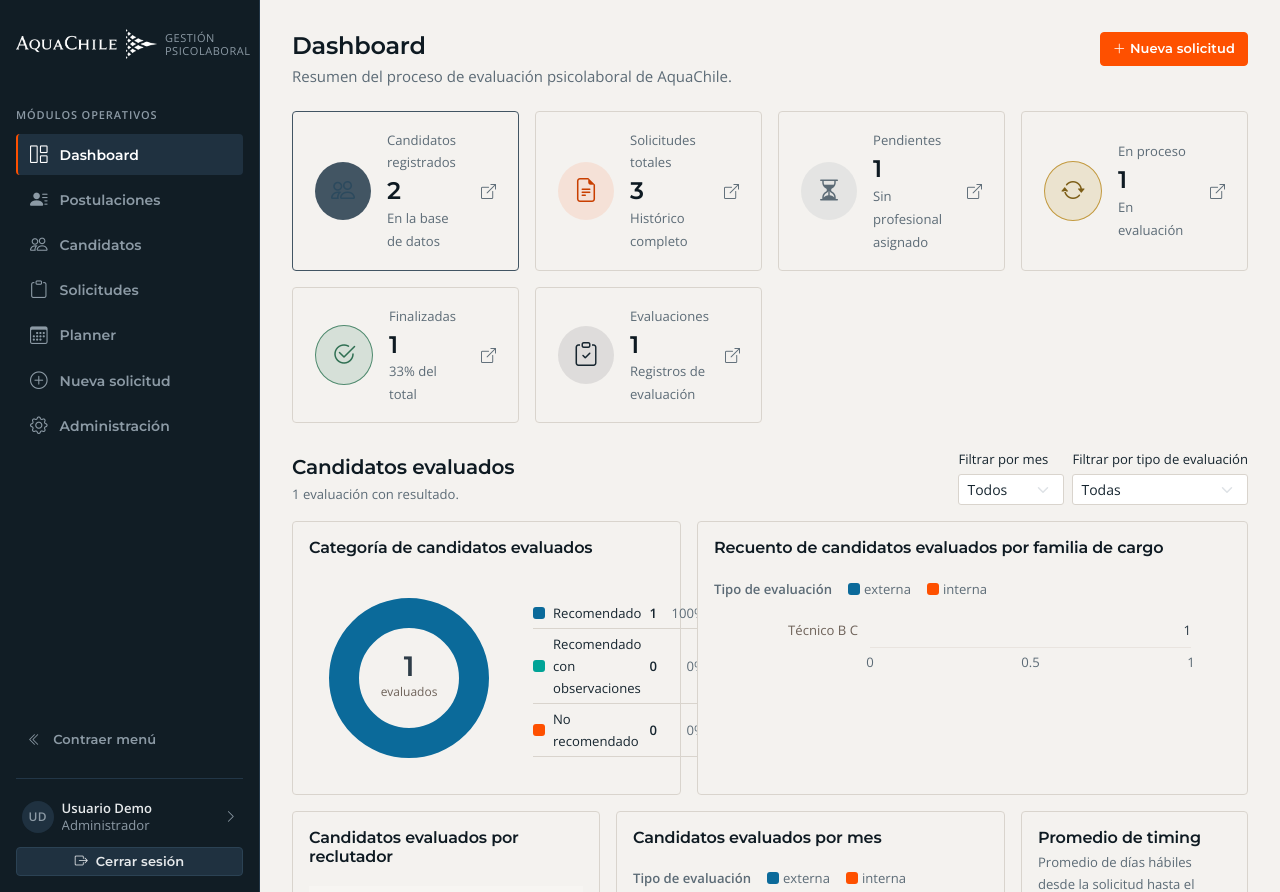
Test case: App (enrutado) › muestra el listado de candidatos
Step 1. Click the link "Candidatos" → (86, 245), box [30,234,141,256]
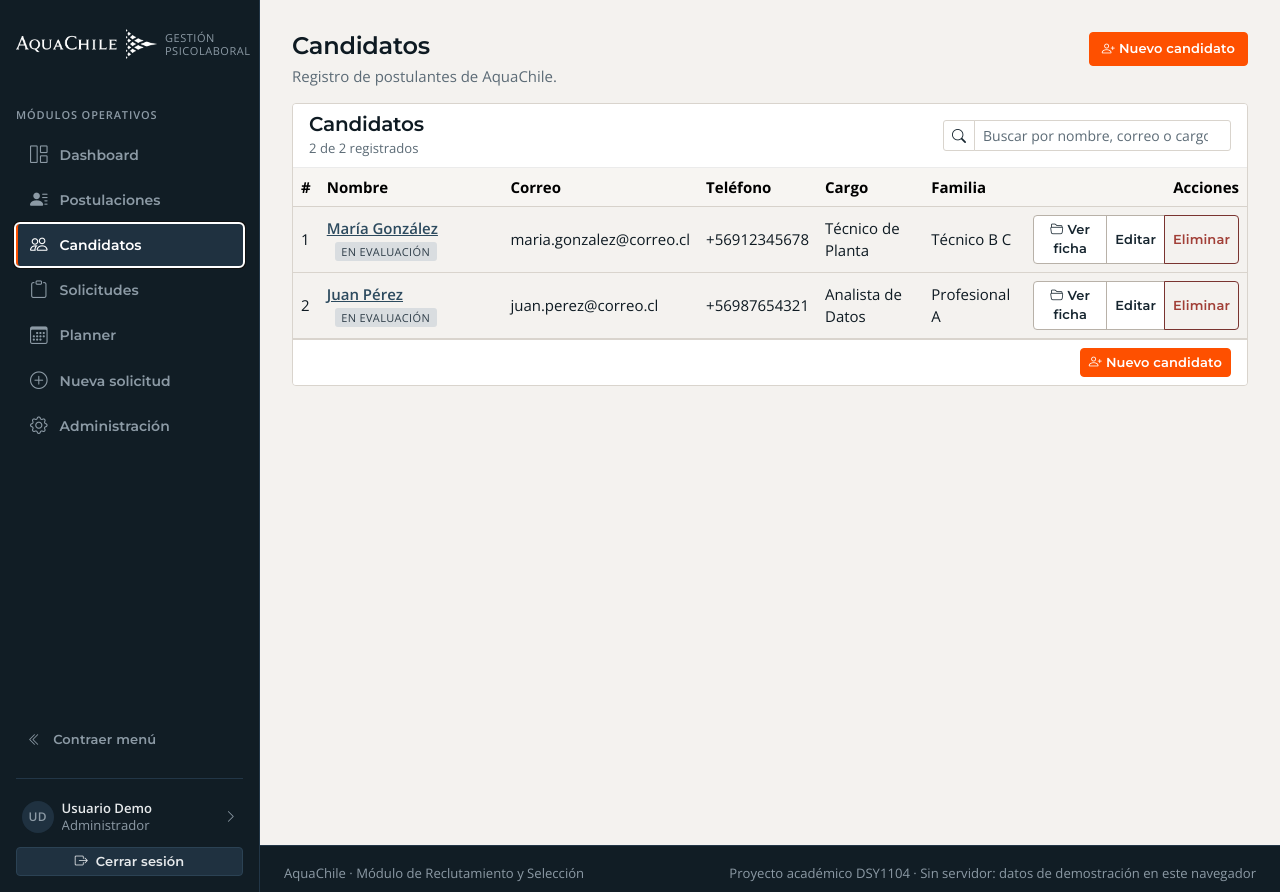
Expected: the 1st heading "Candidatos" is shown, [292,31,430,60]
Expected: the text "maria.gonzalez@correo.cl" is shown, [502,206,698,272]
